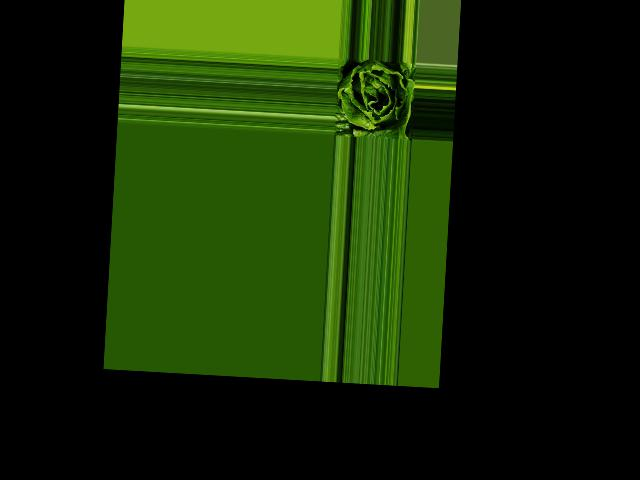lettuce: (334, 59, 415, 140)
